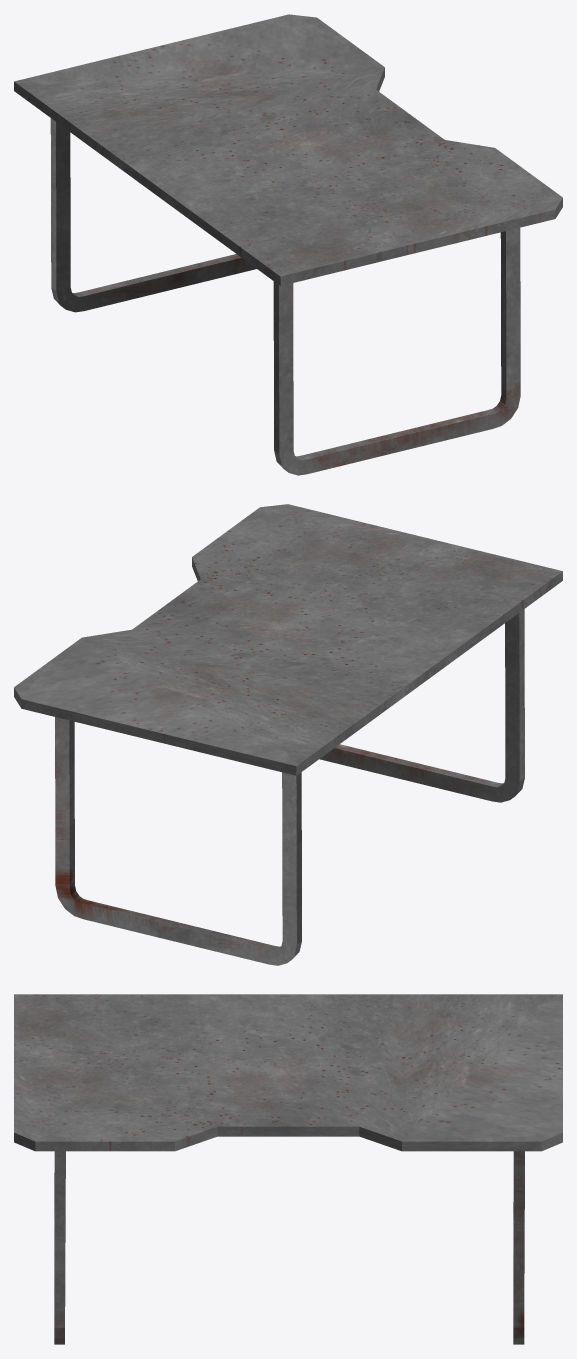
File: table.fbx
3 renders of one model, top to bottom at view 1: azimuth 30°, elevation 25°; view 2: azimuth 150°, elevation 25°; view 3: azimuth 270°, elevation 25°, orthographic. The views are drawn at different scales.
Parts seen in each view (by area): view 1: table; view 2: table; view 3: table.
Boxes of the visible parts, box(x1,y1,x2,y2) form: table: box(14, 14, 562, 475); table: box(14, 504, 562, 965); table: box(14, 994, 562, 1344).
Size of the model in its own units: 1.51 by 1.1 by 2.38.
1 material, 1 textured.
